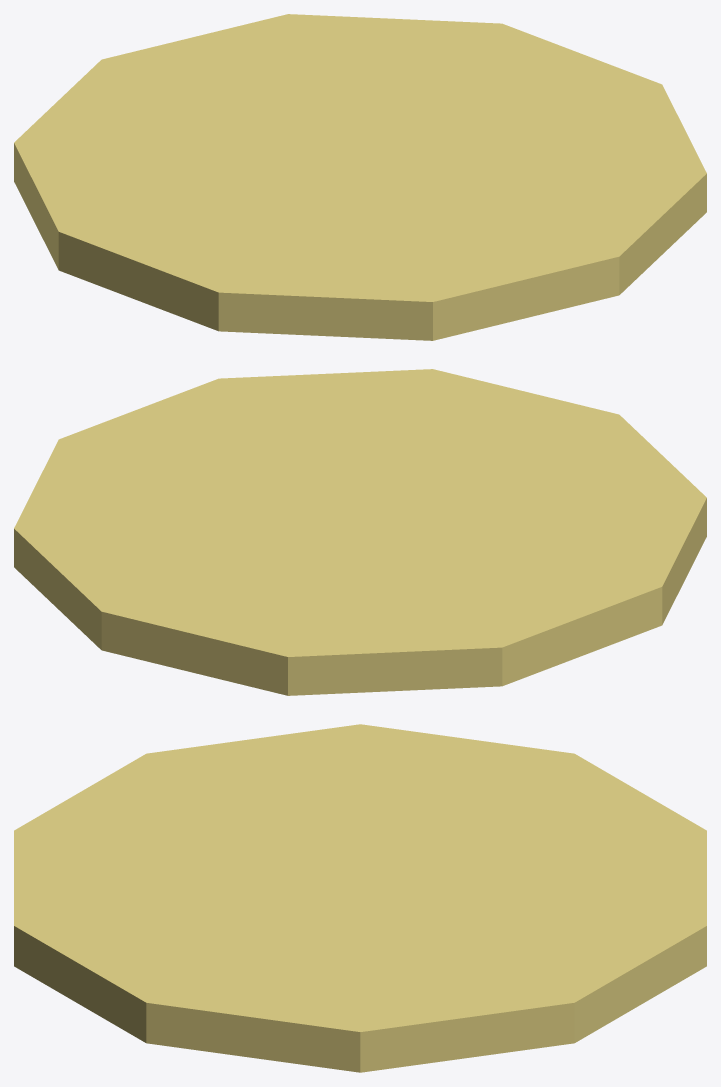
Rendered from coin.fbx.
3 views of the same model, one above another, from view 1: azimuth 30°, elevation 25°; view 2: azimuth 150°, elevation 25°; view 3: azimuth 270°, elevation 25° (orthographic). The views are drawn at different scales.
Parts seen in each view (by area): view 1: pCylinder1; view 2: pCylinder1; view 3: pCylinder1.
Boxes of the visible parts, <box> form: pCylinder1: <box>14,14,706,340</box>; pCylinder1: <box>14,369,706,695</box>; pCylinder1: <box>14,724,706,1072</box>.
Size of the model in its own units: 2 by 0.1229 by 1.9.
